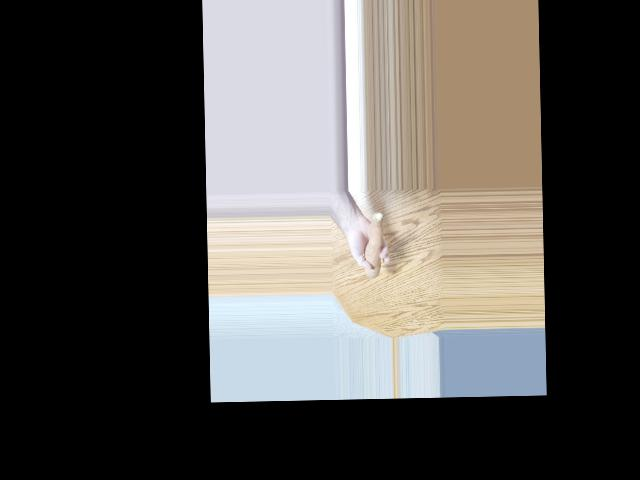sweet_potato: (362, 217, 385, 274)
